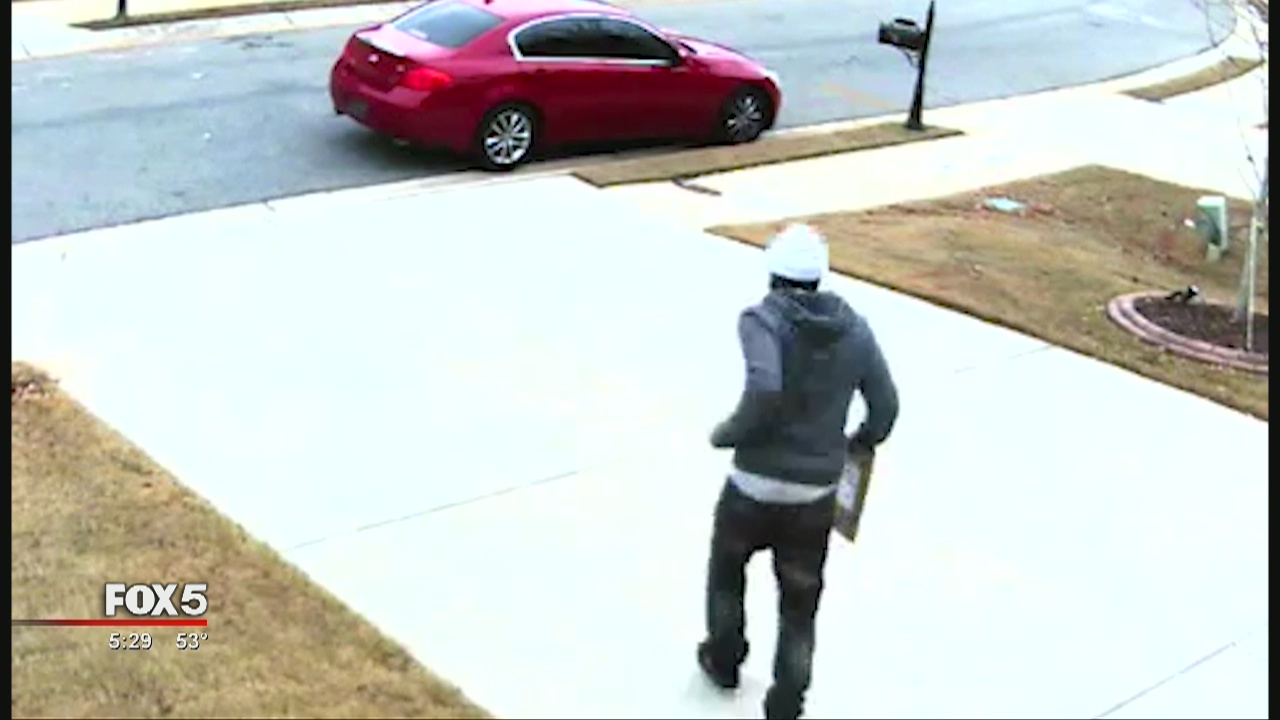person: (685, 222, 891, 714)
